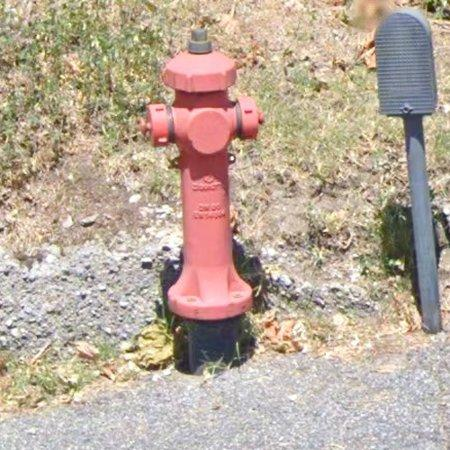a fire hydrant: (141, 29, 264, 374)
